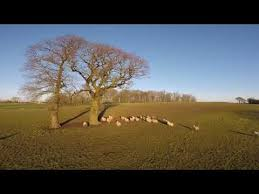sheep: (191, 124, 200, 132), (166, 120, 174, 128), (151, 116, 159, 124), (115, 119, 122, 127), (99, 115, 107, 122), (128, 115, 135, 123), (81, 120, 87, 127), (118, 114, 125, 120), (106, 117, 111, 124), (105, 113, 112, 118), (134, 116, 140, 121)
